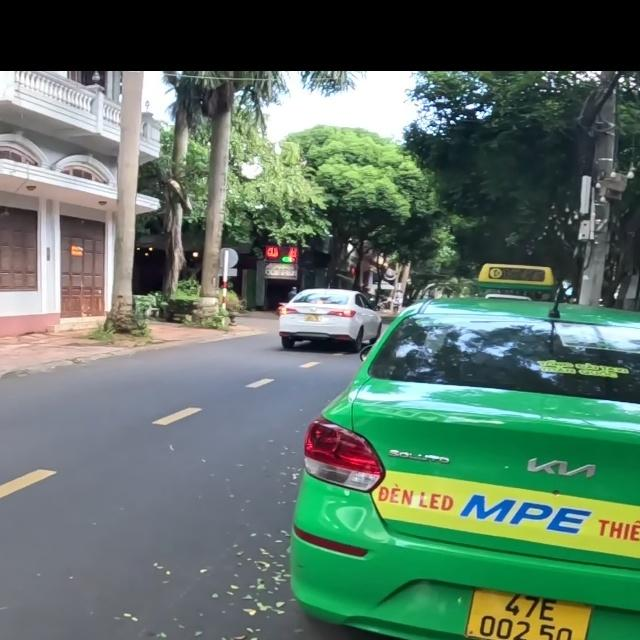license-plate: (463, 588, 593, 640), (305, 313, 321, 322)
